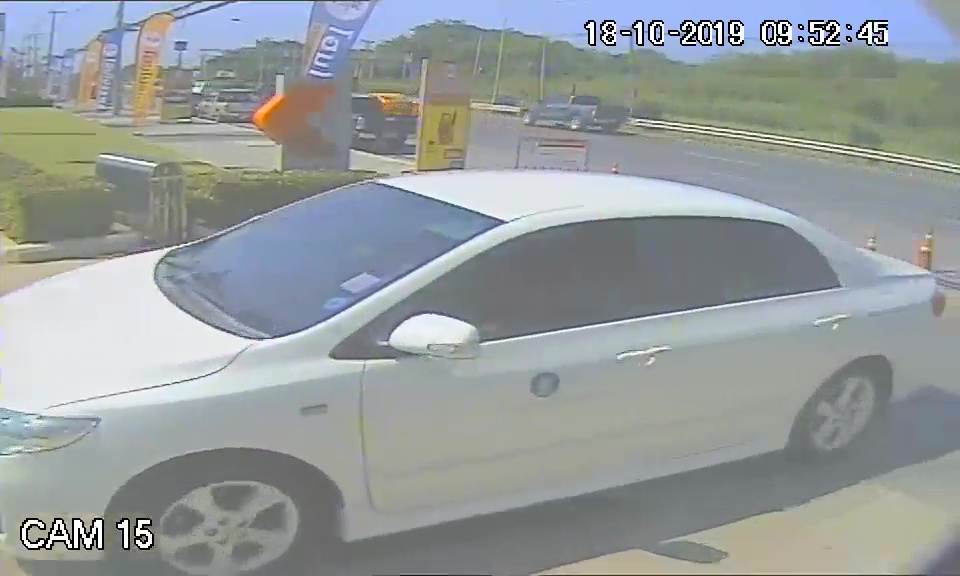sedan: (2, 167, 819, 516)
